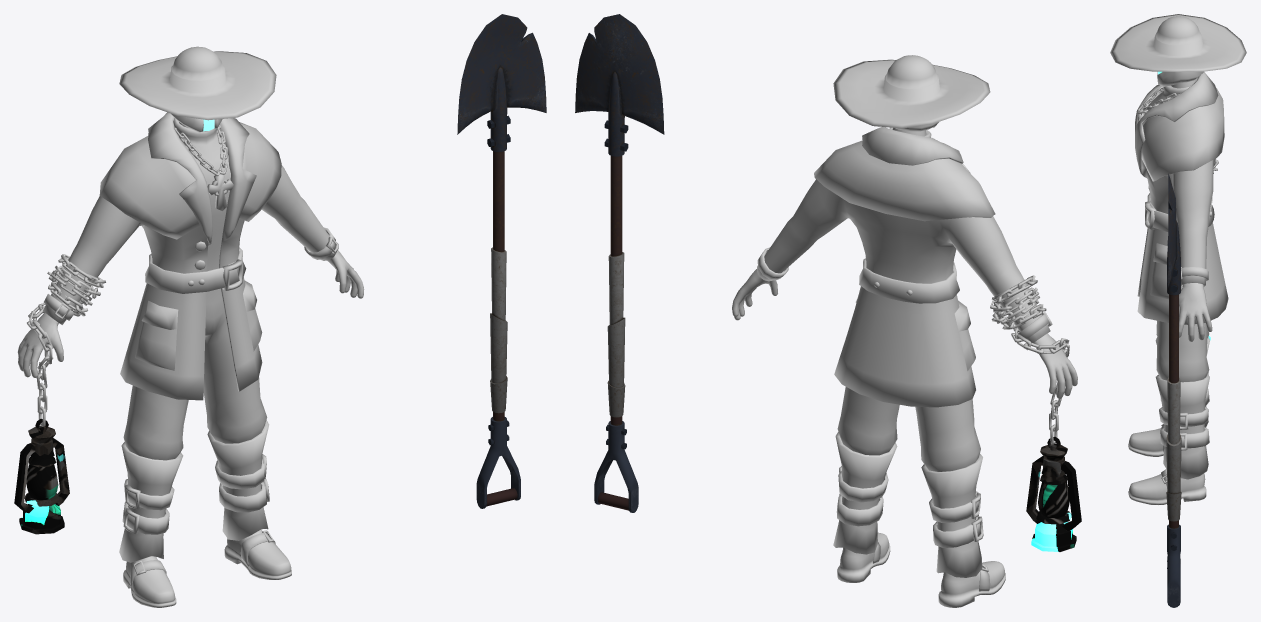
Rendered from Mortician.fbx.
3 renders of one model, left to right at view 1: azimuth 30°, elevation 25°; view 2: azimuth 150°, elevation 25°; view 3: azimuth 270°, elevation 25°, orthographic. The views are drawn at different scales.
Visible parts, largest first — view 1: Mortician, Shovel, Hat, Lantern; view 2: Mortician, Shovel, Hat, Lantern; view 3: Mortician, Hat, Shovel.
Boxes of the visible parts, x1,y1,x2,y2 form: Mortician: (17,112,364,607); Shovel: (457,14,546,508); Hat: (119,46,276,120); Lantern: (14,418,69,534); Mortician: (732,122,1077,607); Shovel: (575,14,664,512); Hat: (833,55,990,128); Lantern: (1026,436,1081,551); Mortician: (1128,71,1228,504); Hat: (1110,14,1246,72); Shovel: (1166,173,1181,607).
Bounding box in the file's own units: 5.14 × 1.35 × 4.98.
